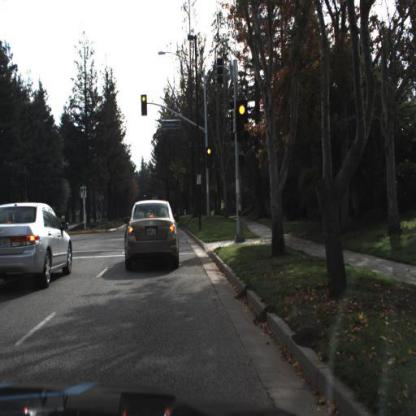car: (1, 200, 74, 294), (124, 200, 180, 272)
trafficLight-Red: (237, 101, 249, 141), (206, 147, 215, 170), (141, 94, 149, 118)
